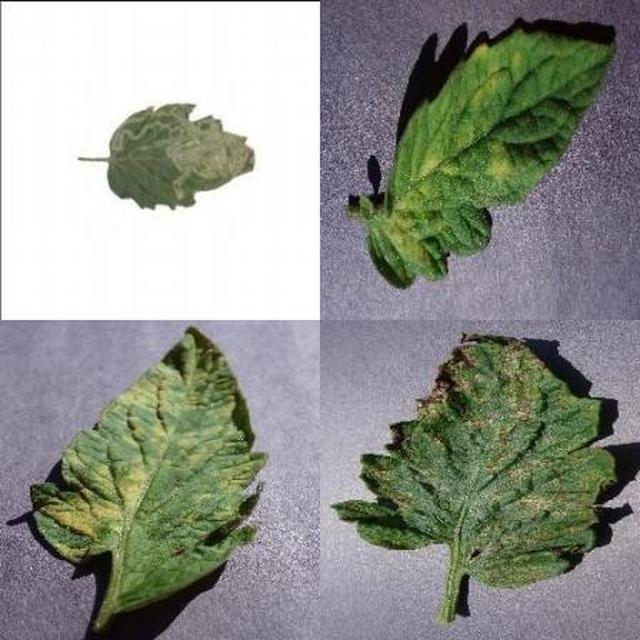Leaf Miner: (214, 159, 640, 640)
